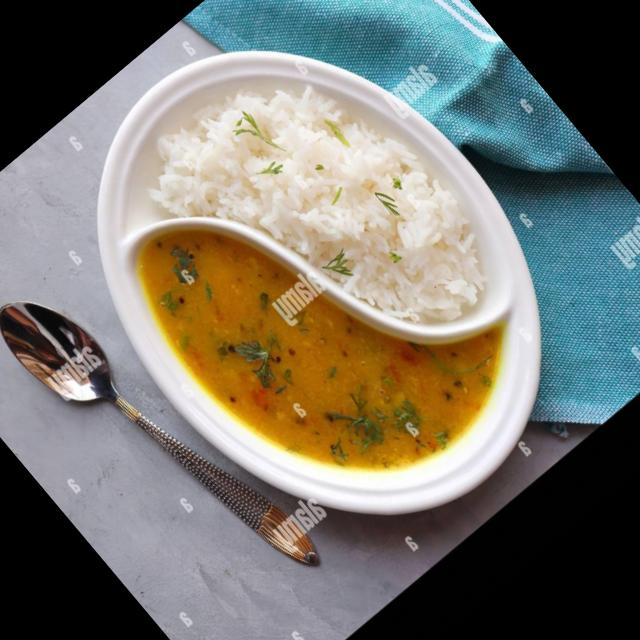dal: (136, 231, 502, 471)
rice: (150, 84, 484, 324)
